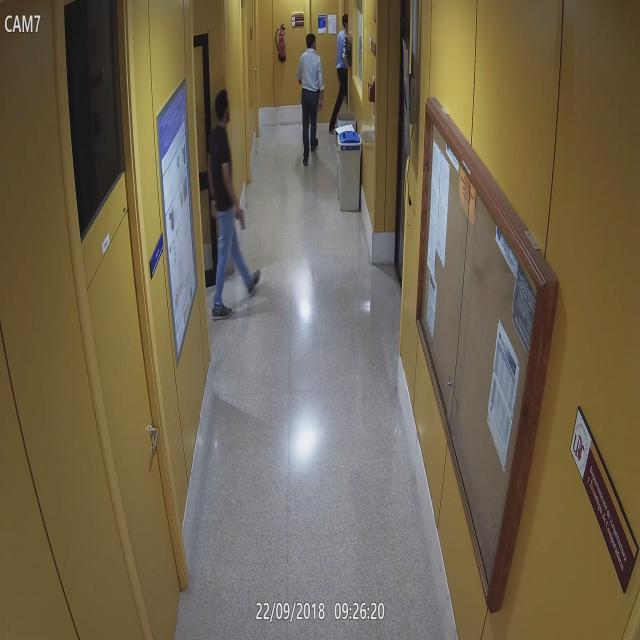Gun: (234, 206, 246, 232)
